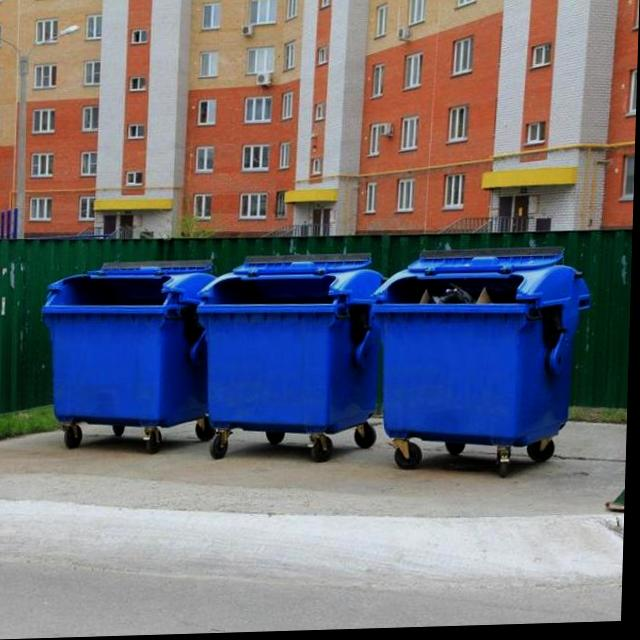Trash_Can_Empty: (196, 262, 390, 440), (40, 268, 219, 432)
Trash_Can_Full: (371, 267, 597, 454)
